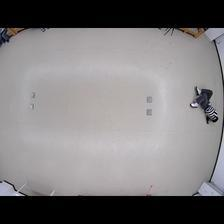fall: (189, 84, 220, 126)
